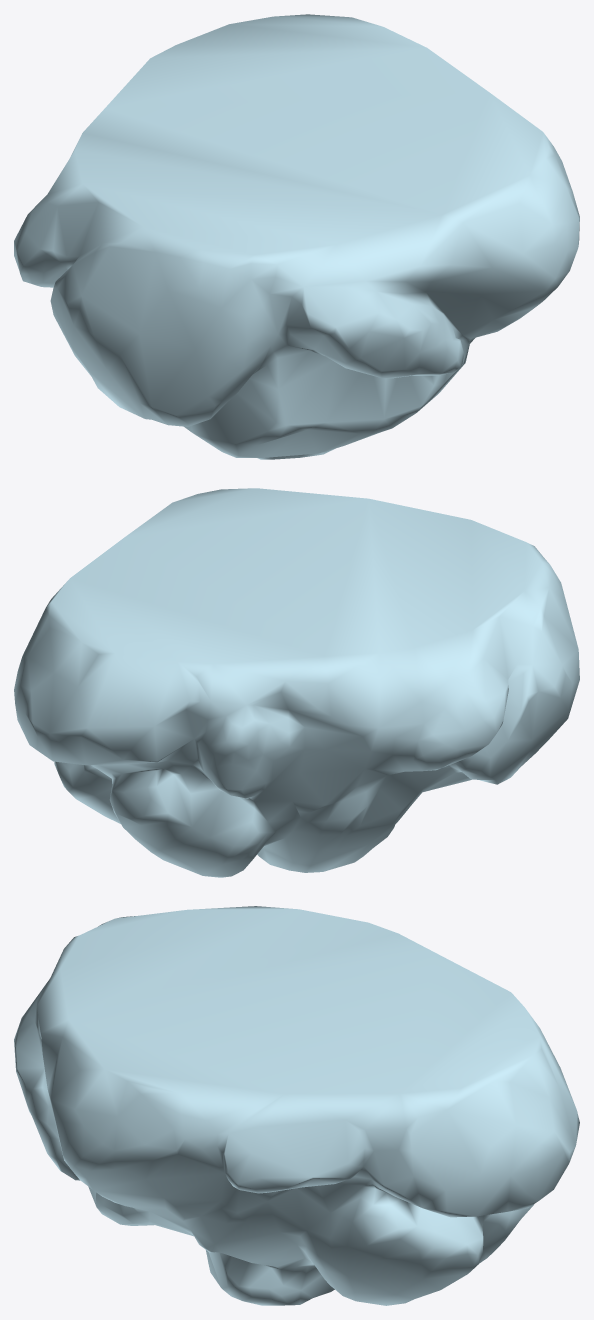
Rendered from island_9_LOD3.fbx.
3 views of the same model, one above another, from view 1: azimuth 30°, elevation 25°; view 2: azimuth 150°, elevation 25°; view 3: azimuth 270°, elevation 25° (orthographic). The views are drawn at different scales.
Parts seen in each view (by area): view 1: island_9_LOD3; view 2: island_9_LOD3; view 3: island_9_LOD3.
Part boxes in pixels (left/top/right/bottom): island_9_LOD3: left=14, top=14, right=579, bottom=459; island_9_LOD3: left=14, top=488, right=579, bottom=877; island_9_LOD3: left=14, top=906, right=579, bottom=1305.
Size of the model in its own units: 1329 by 785 by 1418.
